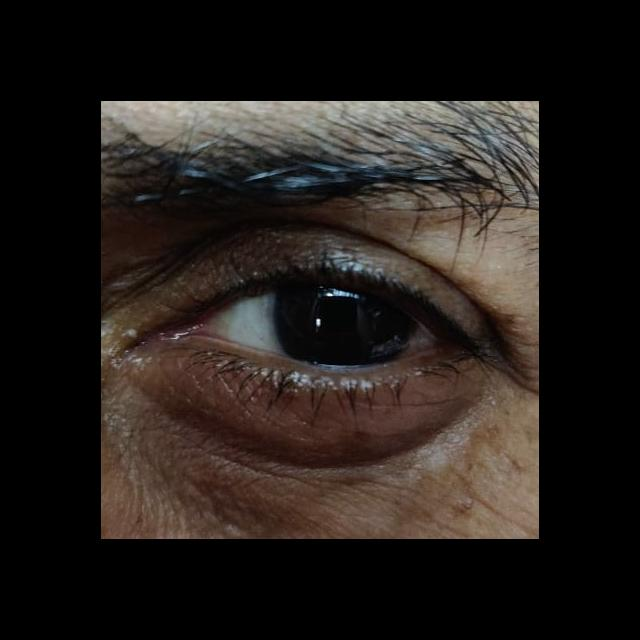eye: (200, 274, 445, 368)
iris: (274, 280, 418, 364)
